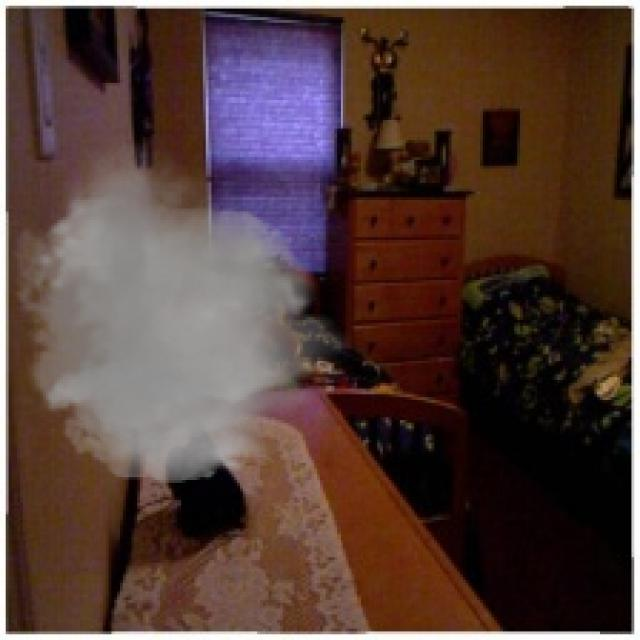smoke: (0, 140, 357, 491)
